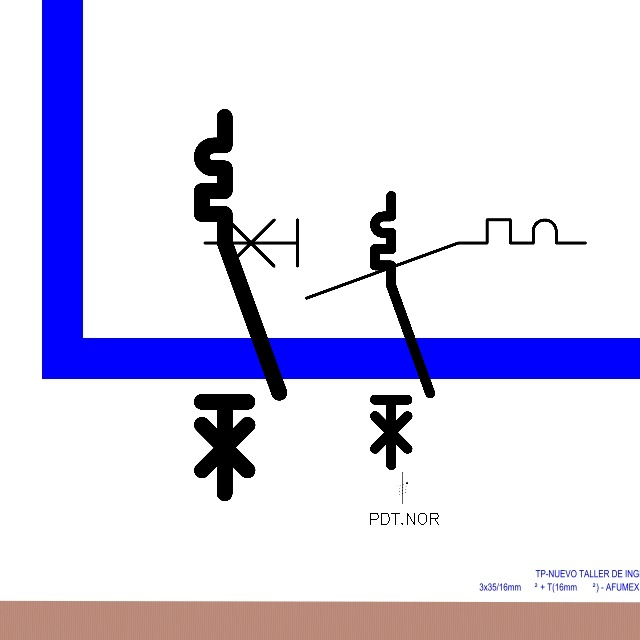interruptor_termomagnetico: (195, 210, 595, 308), (192, 107, 289, 503), (368, 189, 437, 472)
